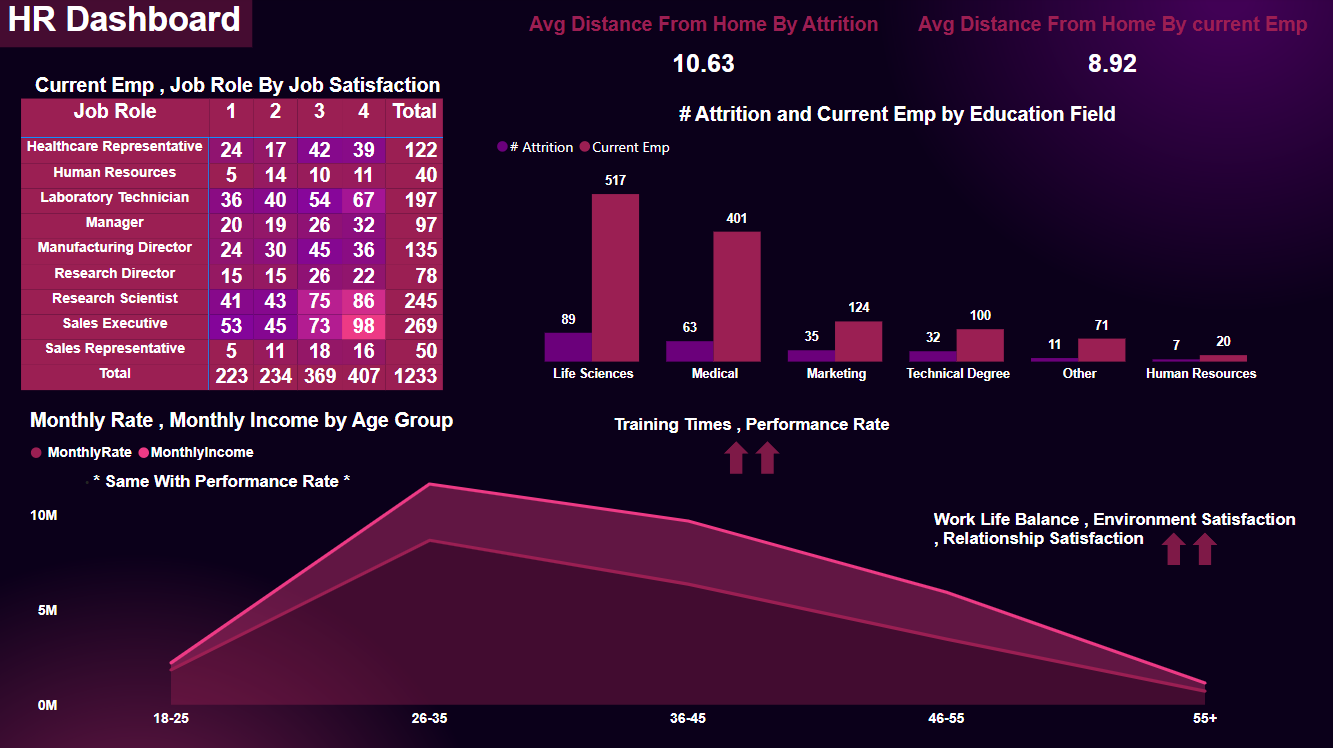

The dashboard page shown, as its layout file describes it:
{"tool":"powerbi","page":{"name":"Page 2","canvas":[1280,720],"ordinal":1},"visuals":[{"type":"clusteredColumnChart","title":"# Attrition and Current Emp by Education Field","fields":{"Category":["HR_Analytics.EducationField"],"Y":["Sum(HR_Analytics.Atttition_num)","HR_Analytics.Current_emp"]},"box":[471.8,102.6,774,273.7],"z":0},{"type":"shape","box":[692.7,423.3,24.2,31.4],"z":0,"group":"g1"},{"type":"shape","box":[1109,510.3,24.2,31.4],"z":0,"group":"g2"},{"type":"pivotTable","fields":{"Rows":["HR_Analytics.JobRole"],"Columns":["HR_Analytics.JobSatisfaction"],"Values":["HR_Analytics.Current_emp"]},"box":[18.5,92.7,421.9,300.8],"z":1000},{"type":"shape","box":[722.6,423.3,24.2,31.4],"z":1000,"group":"g1"},{"type":"shape","box":[1138.9,510.3,24.2,31.4],"z":1000,"group":"g2"},{"type":"textbox","box":[18.5,69.8,421.9,32.8],"z":2000},{"type":"card","title":"Avg Distance From Home By Attrition","fields":{"Values":["Avg(HR_Analytics.DistanceFromHome)"]},"box":[500.3,17.1,347.8,75.5],"z":3000},{"type":"card","title":"Avg Distance From Home By current Emp","fields":{"Values":["Avg(HR_Analytics.DistanceFromHome)"]},"box":[869.5,17.1,386.3,75.5],"z":4000},{"type":"stackedAreaChart","title":"Monthly Rate , Monthly Income by Age Group","fields":{"Category":["HR_Analytics.AgeGroup"],"Y":["Sum(HR_Analytics.MonthlyRate)","Sum(HR_Analytics.MonthlyIncome)"]},"box":[27.1,393.4,1227.3,310.7],"z":5000},{"type":"textbox","box":[54.2,449,302.2,35.6],"z":6000},{"type":"textbox","box":[568.7,393.4,300.8,35.6],"z":7000},{"type":"textbox","box":[888,484.6,357.8,51.3],"z":8000},{"type":"group","id":"g1","title":"Group 1","box":[692.7,423.3,54.2,31.4],"z":9000},{"type":"group","id":"g2","title":"Group 1","box":[1109,510.3,54.2,31.4],"z":10000},{"type":"textbox","box":[0,0,243.7,48.5],"z":11000}]}

Visuals, with their boxes in screenshot pixels (x1, y1, x2, y2), scaled from the page's 1280x720 canvas onto the 1333x748 screenshot:
"# Attrition and Current Emp by Education Field" clusteredColumnChart: region(491, 107, 1297, 391)
shape: region(721, 440, 747, 472)
shape: region(1155, 530, 1180, 563)
pivotTable - HR_Analytics.JobRole x HR_Analytics.JobSatisfaction: region(19, 96, 459, 409)
shape: region(753, 440, 778, 472)
shape: region(1186, 530, 1211, 563)
textbox: region(19, 73, 459, 107)
"Avg Distance From Home By Attrition" card: region(521, 18, 883, 96)
"Avg Distance From Home By current Emp" card: region(906, 18, 1308, 96)
"Monthly Rate , Monthly Income by Age Group" stackedAreaChart: region(28, 409, 1306, 731)
textbox: region(56, 466, 371, 503)
textbox: region(592, 409, 906, 446)
textbox: region(925, 503, 1297, 557)
"Group 1" group: region(721, 440, 778, 472)
"Group 1" group: region(1155, 530, 1211, 563)
textbox: region(0, 0, 254, 50)
